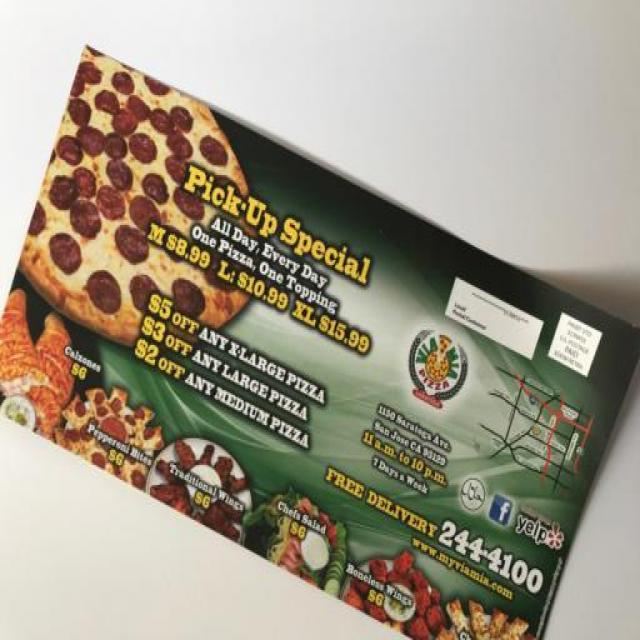paper: (42, 56, 640, 628)
